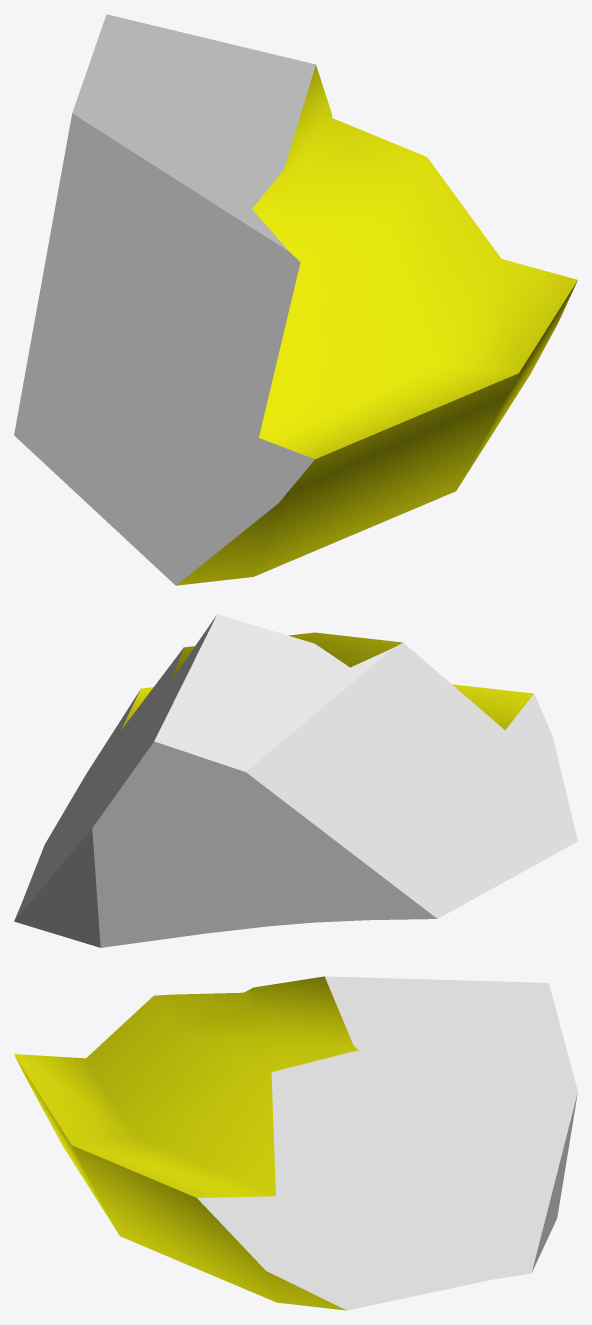
The model's file is mdl_ciudadela_casa_pilar1_fracturepart17.fbx.
3 renders of one model, top to bottom at view 1: azimuth 30°, elevation 25°; view 2: azimuth 150°, elevation 25°; view 3: azimuth 270°, elevation 25°, orthographic. The views are drawn at different scales.
Visible parts, largest first — view 1: mdl_ciudadela_casa_pilar1_fracturepart17; view 2: mdl_ciudadela_casa_pilar1_fracturepart17; view 3: mdl_ciudadela_casa_pilar1_fracturepart17.
Part boxes in pixels (left/top/right/bottom): mdl_ciudadela_casa_pilar1_fracturepart17: left=14, top=14, right=577, bottom=585; mdl_ciudadela_casa_pilar1_fracturepart17: left=14, top=614, right=577, bottom=947; mdl_ciudadela_casa_pilar1_fracturepart17: left=14, top=976, right=577, bottom=1310.
Size of the model in its own units: 0.7166 by 0.4513 by 0.8979.
